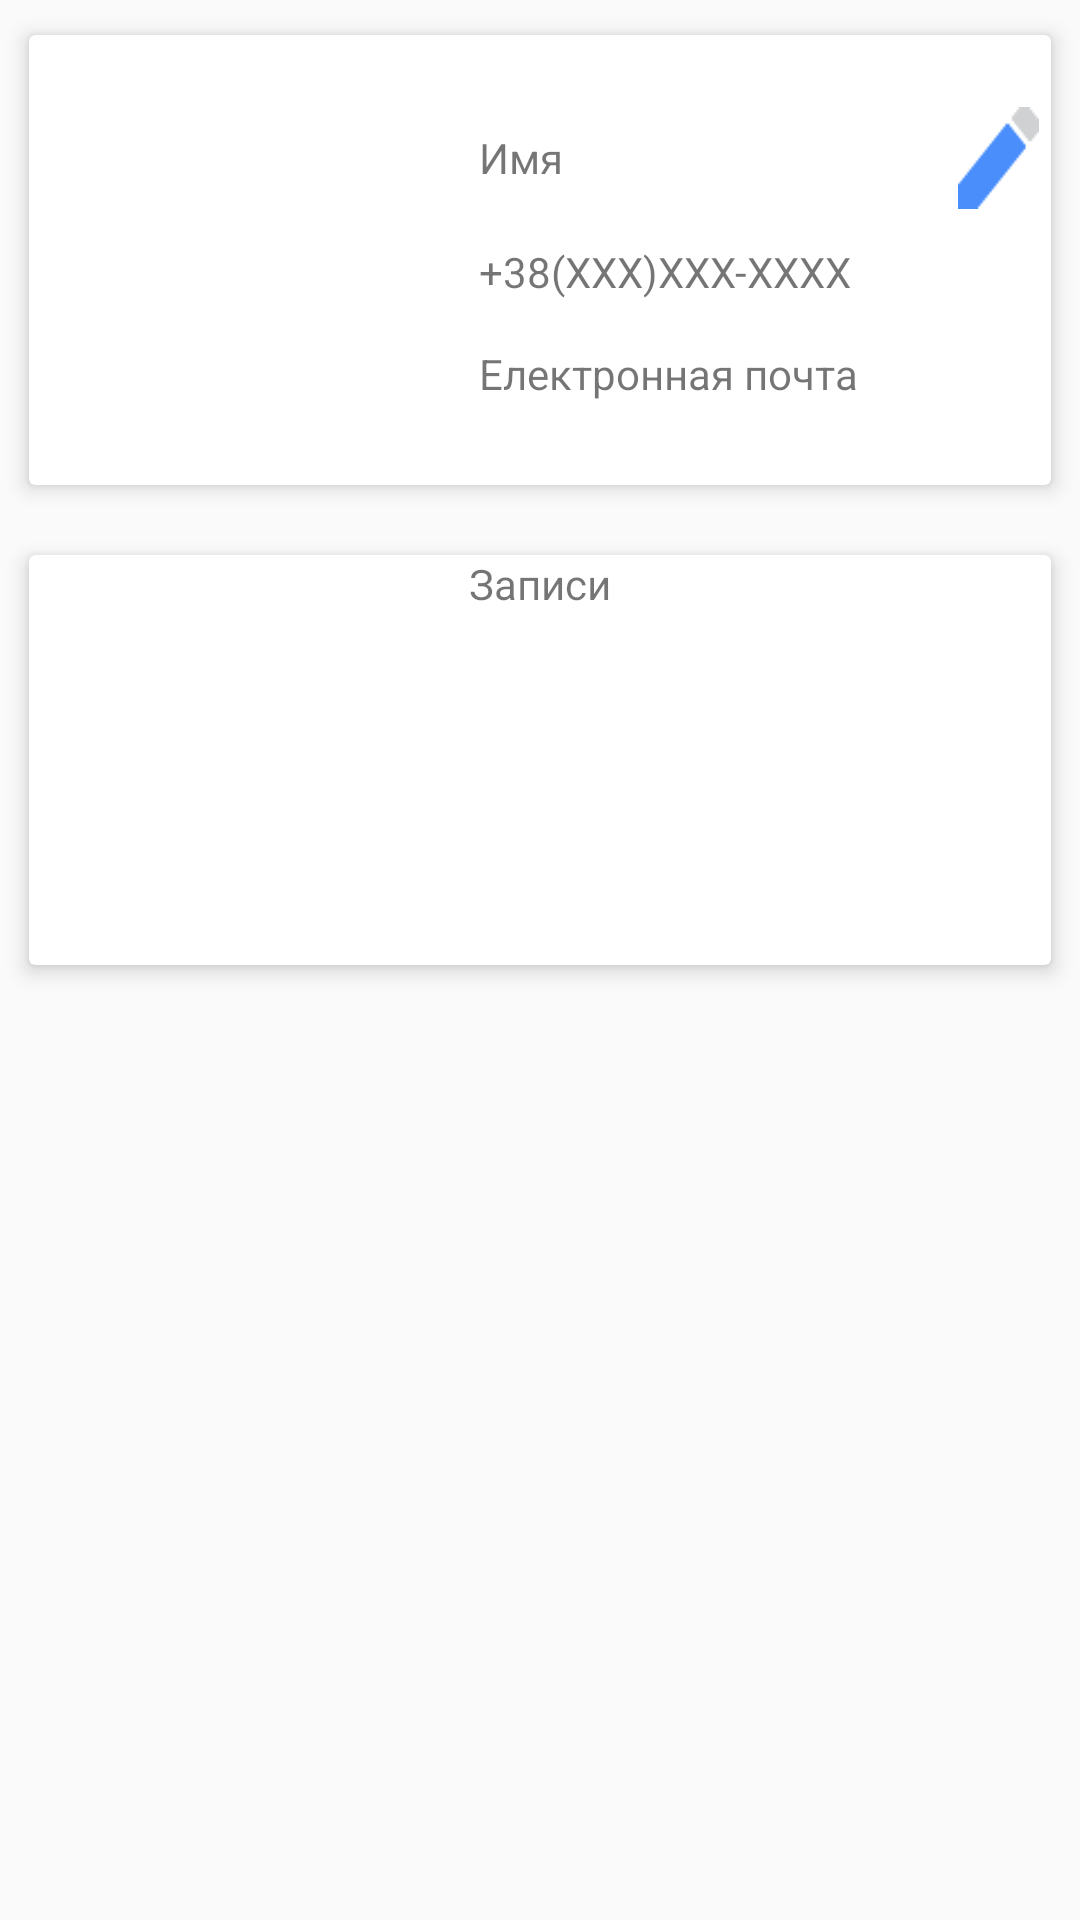

Locate icon controls on the screen. Image size 1080×1920, boxes as (x1, y1, x2, y2).
create: (958, 107, 1039, 209)
